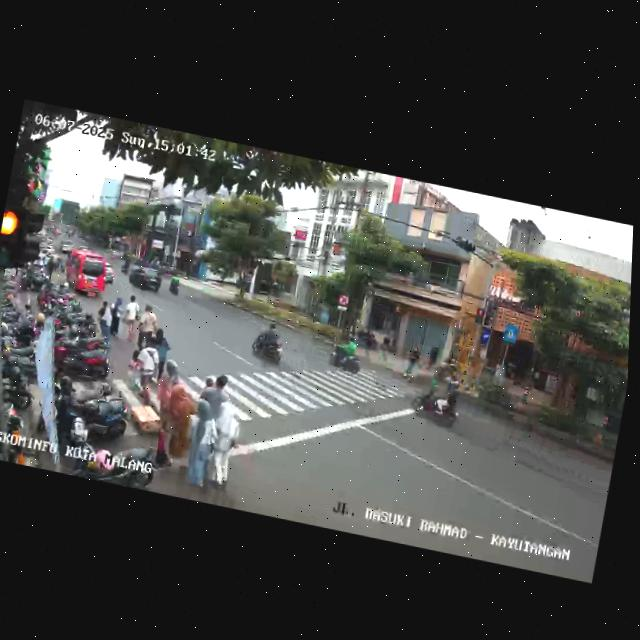car: (60, 246, 112, 299), (126, 263, 163, 295)
motorcycle: (408, 367, 466, 432), (249, 319, 289, 367), (328, 336, 364, 377), (103, 261, 117, 286)
person: (201, 398, 247, 496), (157, 381, 204, 470), (180, 401, 223, 492), (152, 358, 186, 427), (130, 337, 164, 401), (197, 368, 234, 423), (144, 327, 174, 389), (133, 303, 162, 356), (117, 292, 142, 345), (105, 296, 129, 340), (93, 297, 114, 345), (400, 342, 421, 385)
